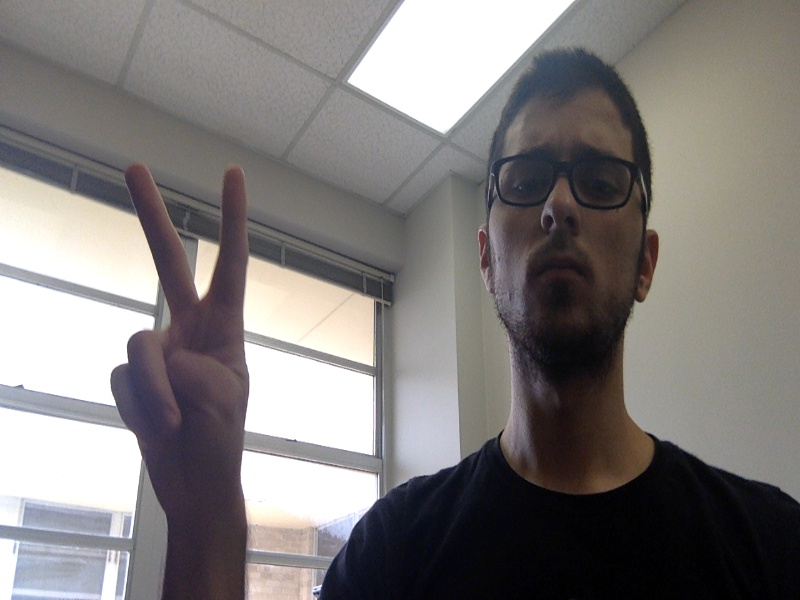2-hand: (110, 162, 249, 500)
